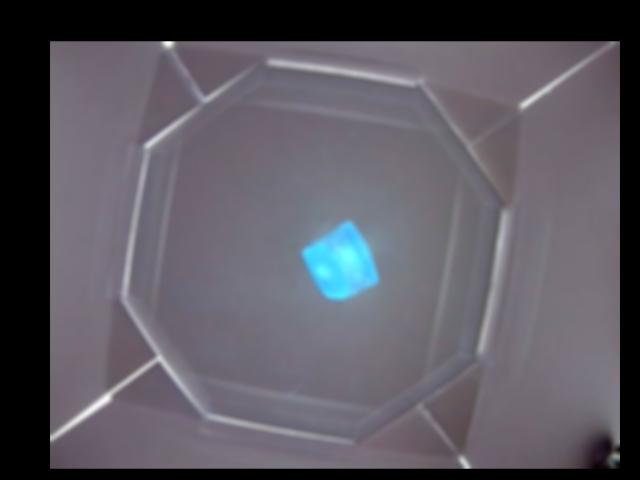Carrot: (302, 222, 376, 299)
